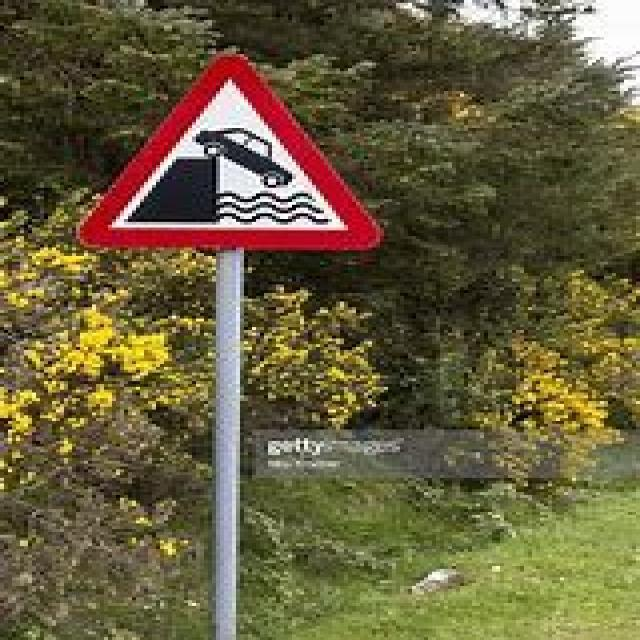quay side or river bank: (66, 42, 388, 257)
